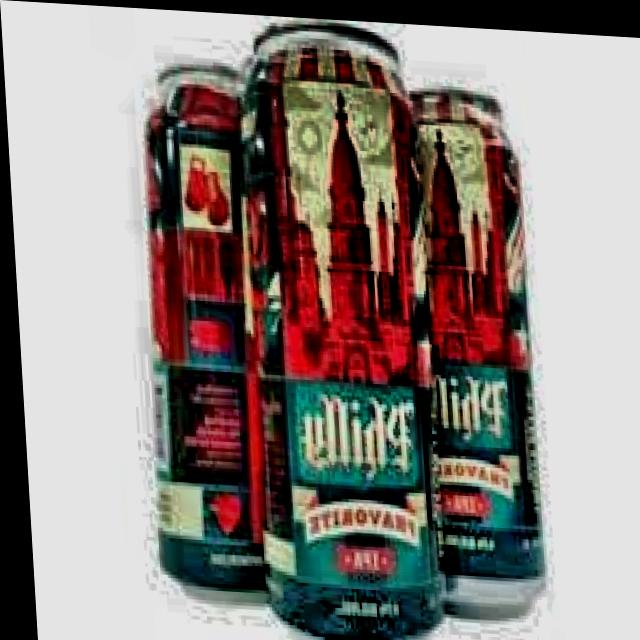can: (230, 11, 435, 640), (122, 45, 277, 610), (398, 73, 546, 619)
